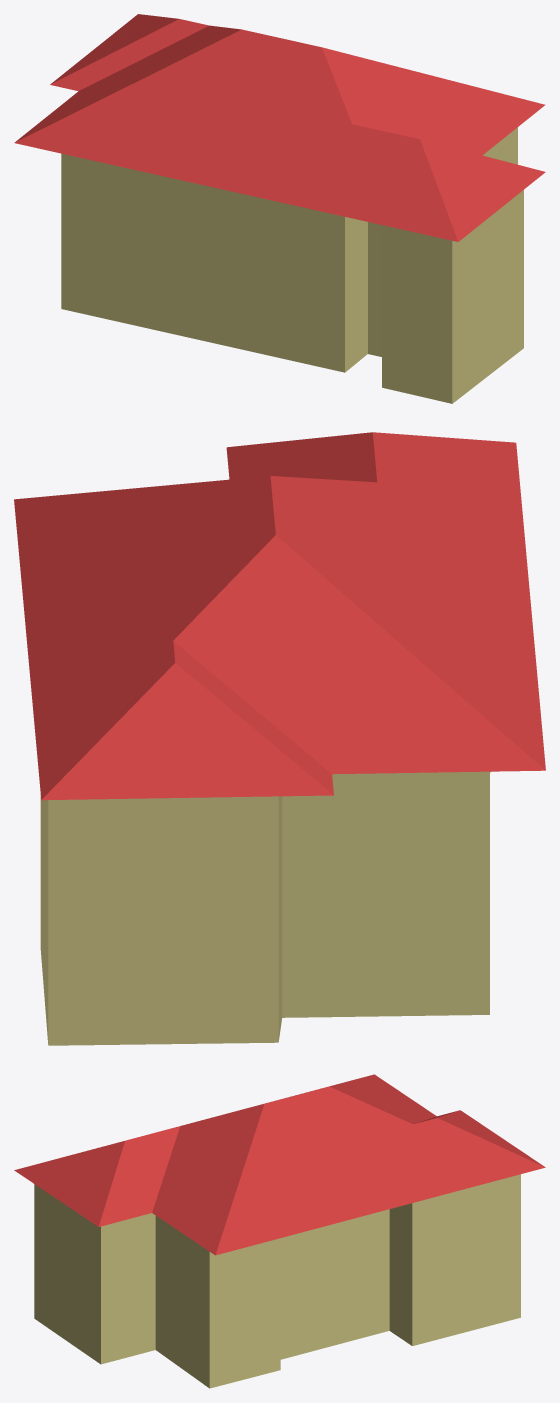
The picture shows the model from 3 angles, top to bottom: view 1: azimuth 30°, elevation 25°; view 2: azimuth 150°, elevation 25°; view 3: azimuth 270°, elevation 25°; orthographic projection. The views are drawn at different scales.
Size of the model in its own units: 20.13 by 24.99 by 11.25.
